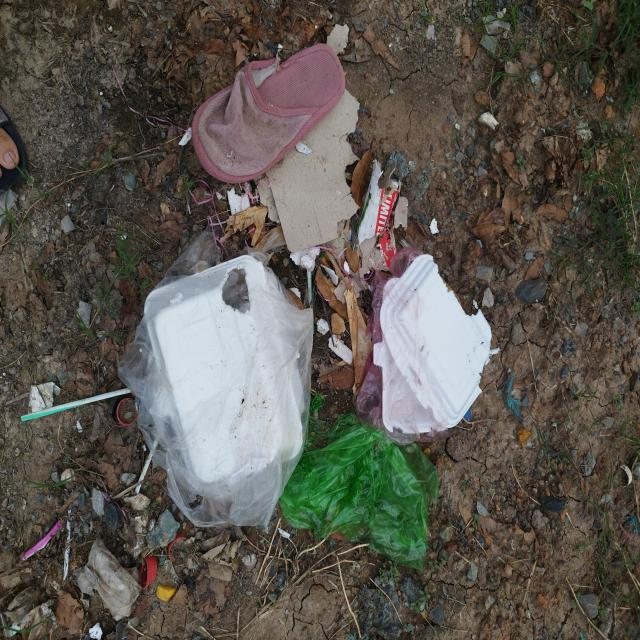bag: (279, 394, 438, 570)
drinking straw: (20, 384, 134, 423)
foam box: (374, 254, 501, 434)
trash bag: (119, 255, 314, 527)
